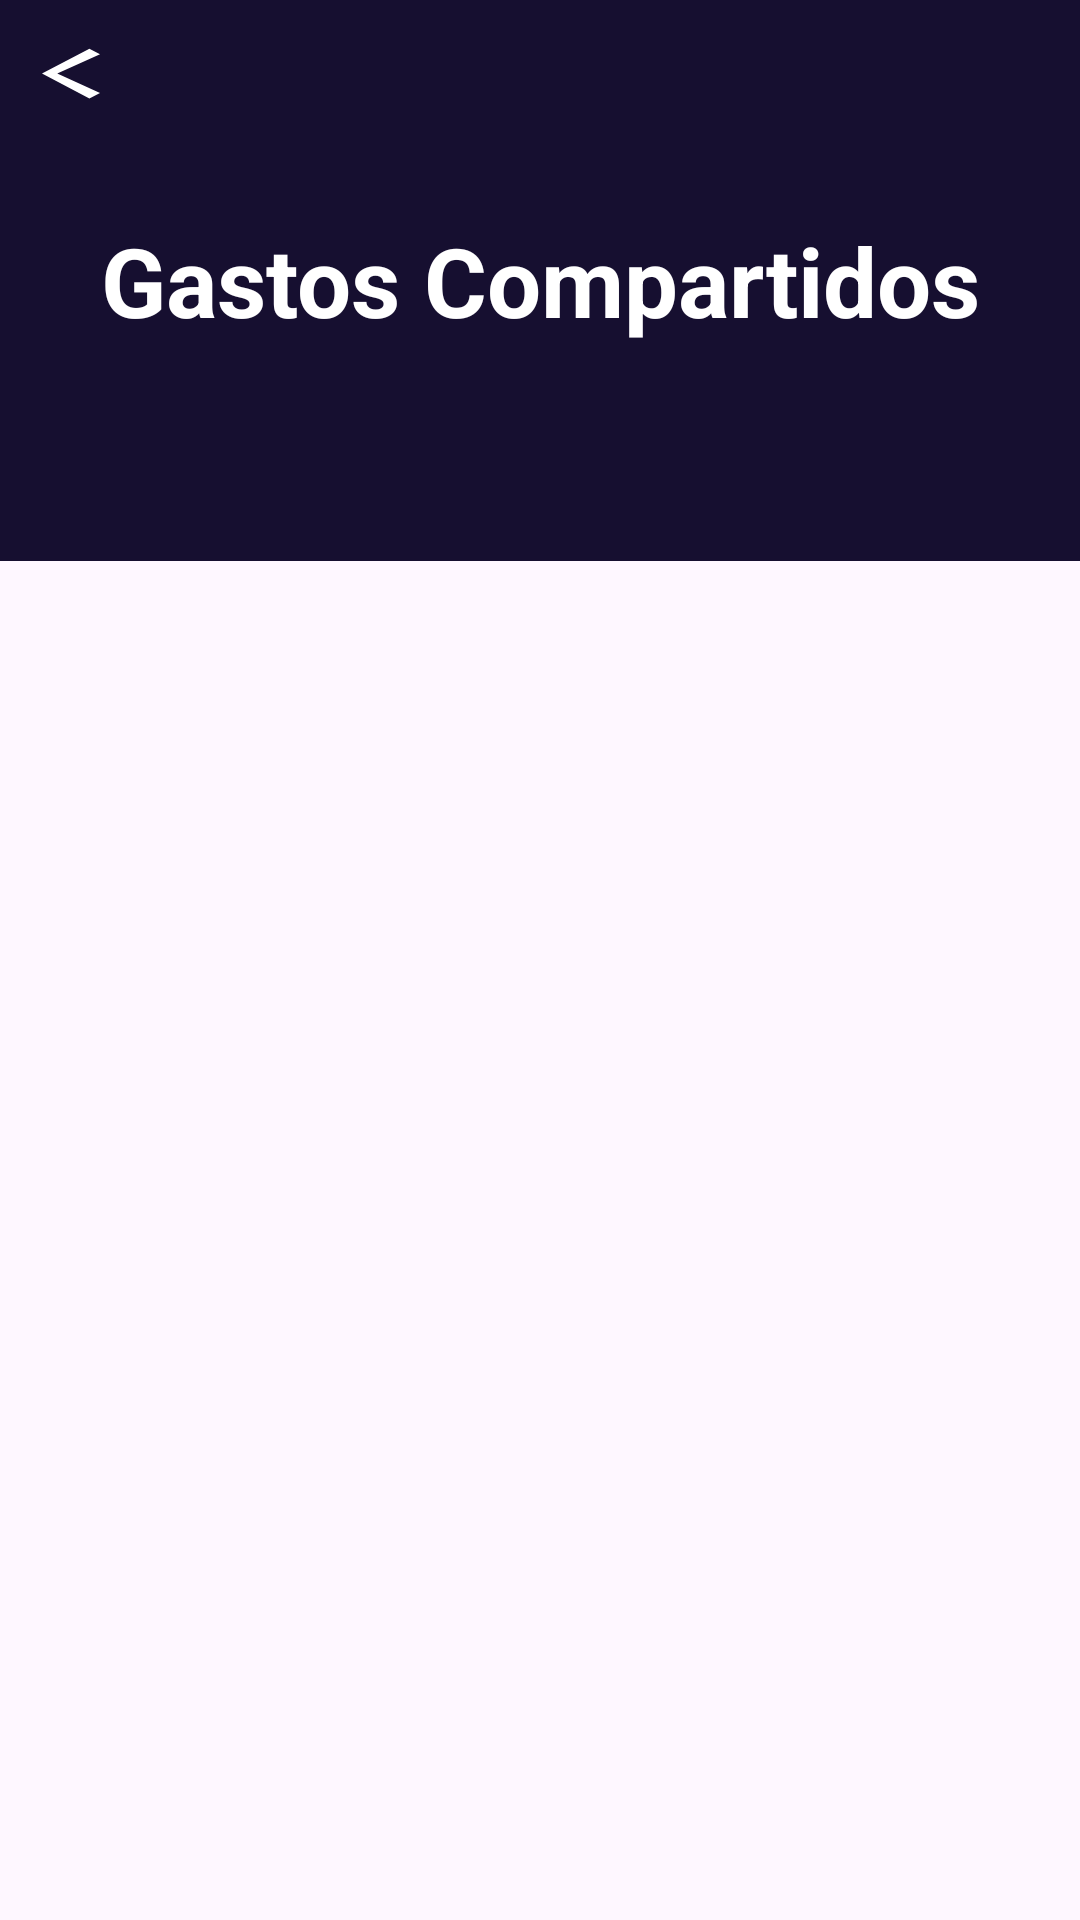

Point at icon controls on the screen. Image size 1080 x 1920, points as point (x, y).
Volver: point (71, 73)
